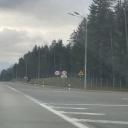speed_limit_100: (53, 69, 62, 77)
speed_limit_120: (61, 69, 68, 77)
